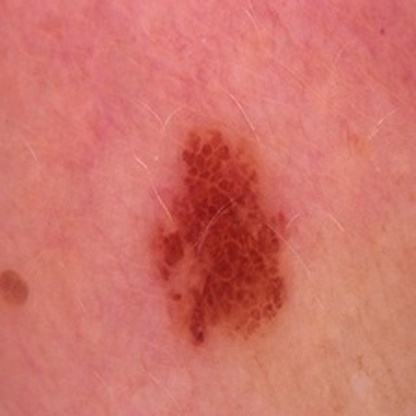benign: (157, 136, 296, 320)
